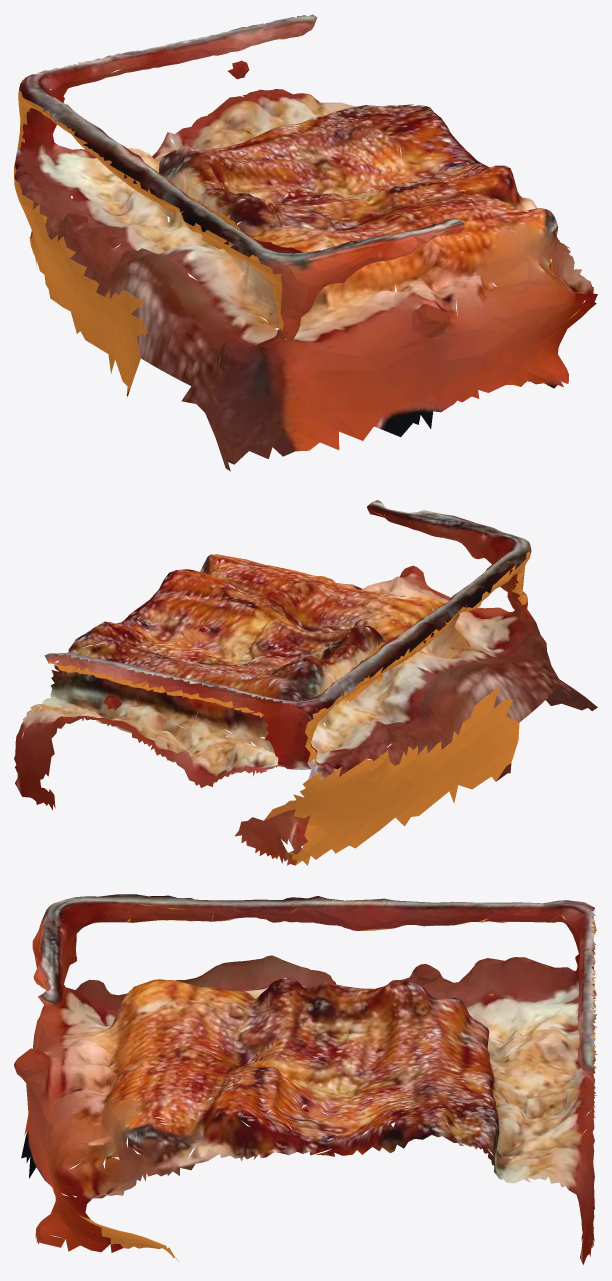
File: unaju-kobax.glb
3 renders of one model, top to bottom at view 1: azimuth 30°, elevation 25°; view 2: azimuth 150°, elevation 25°; view 3: azimuth 270°, elevation 25°, orthographic. The views are drawn at different scales.
Parts seen in each view (by area): view 1: Object_2, Object_3, Object_4; view 2: Object_3, Object_2, Object_4; view 3: Object_3, Object_2, Object_4.
Part boxes in pixels (bbox=[...]): Object_2: bbox=[14, 37, 585, 471]; Object_3: bbox=[14, 14, 597, 412]; Object_4: bbox=[15, 17, 557, 372]; Object_3: bbox=[14, 500, 573, 865]; Object_2: bbox=[15, 514, 597, 865]; Object_4: bbox=[44, 501, 548, 854]; Object_3: bbox=[14, 894, 597, 1252]; Object_2: bbox=[21, 894, 597, 1264]; Object_4: bbox=[14, 899, 595, 1182].
Bounding box in the file's own units: 0.1714 × 0.0791 × 0.2.
3 materials, 3 textured.
